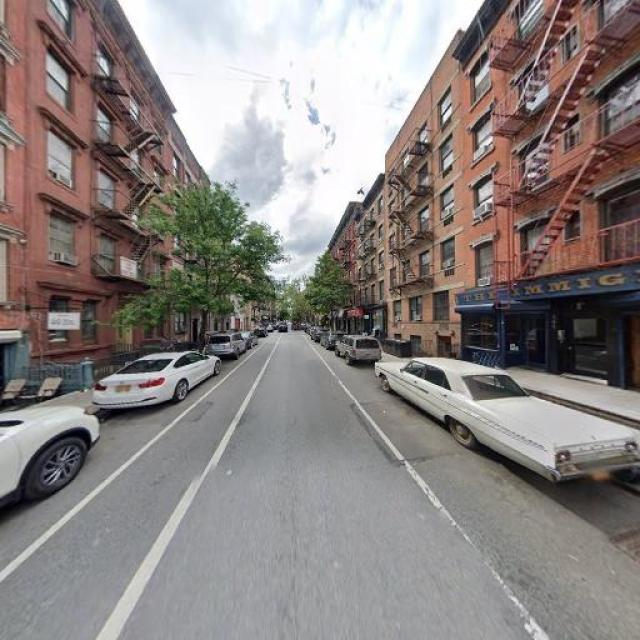Building: (464, 1, 640, 427), (29, 1, 165, 390), (387, 37, 460, 372), (1, 1, 22, 398), (354, 175, 384, 348)
